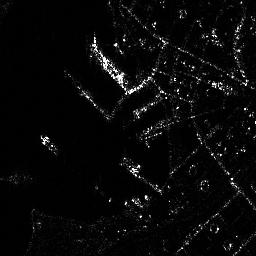ship: (86, 42, 134, 90), (37, 131, 62, 157)
